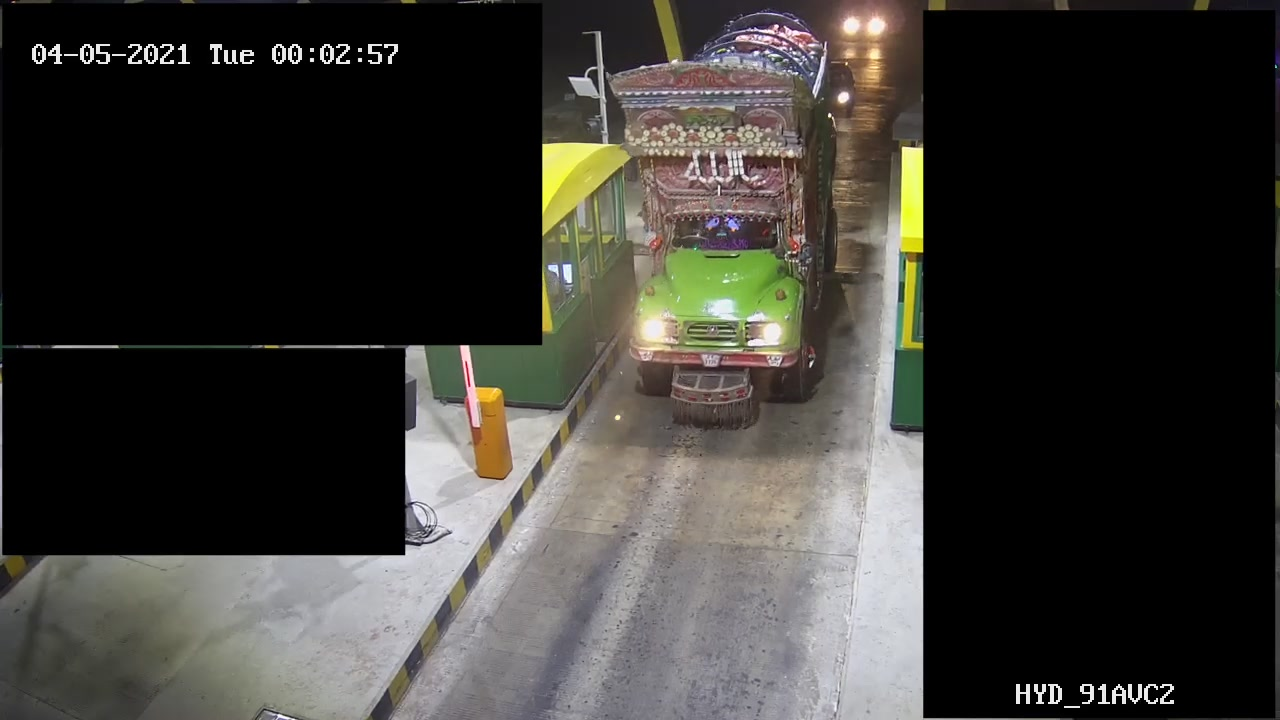F5: (627, 10, 829, 452)
